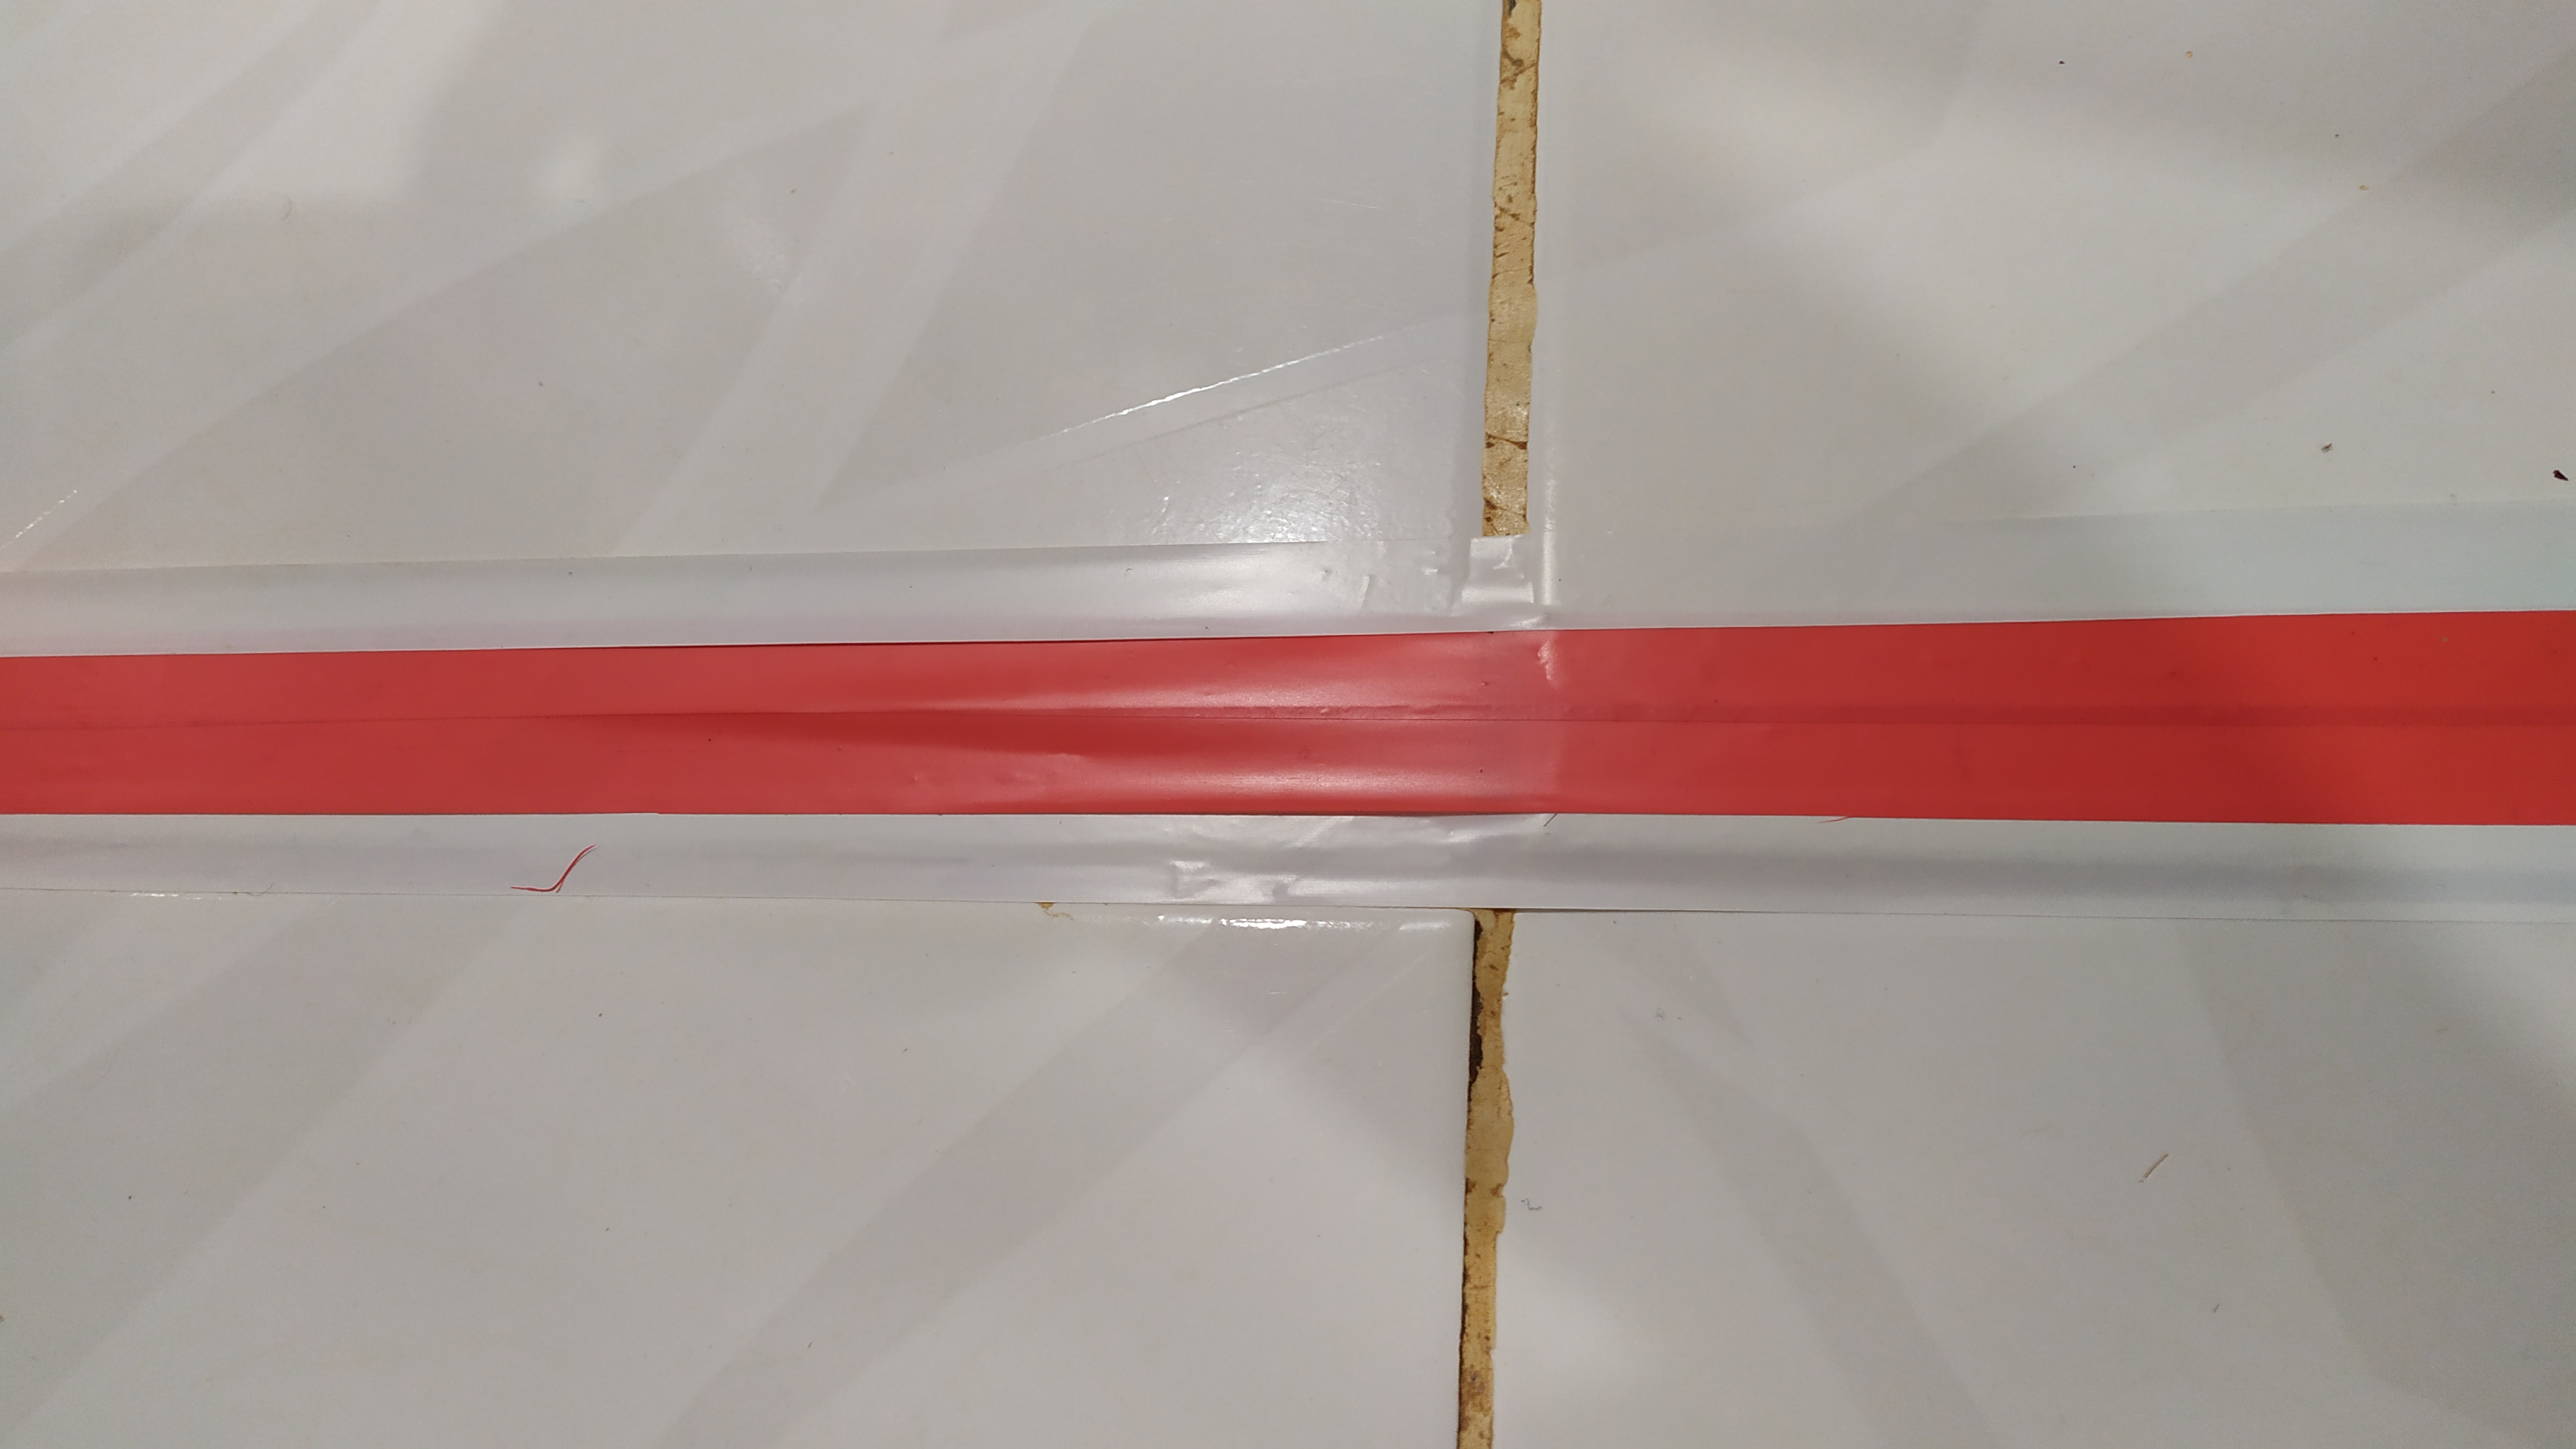faixa_reta: (0, 533, 2560, 938)
